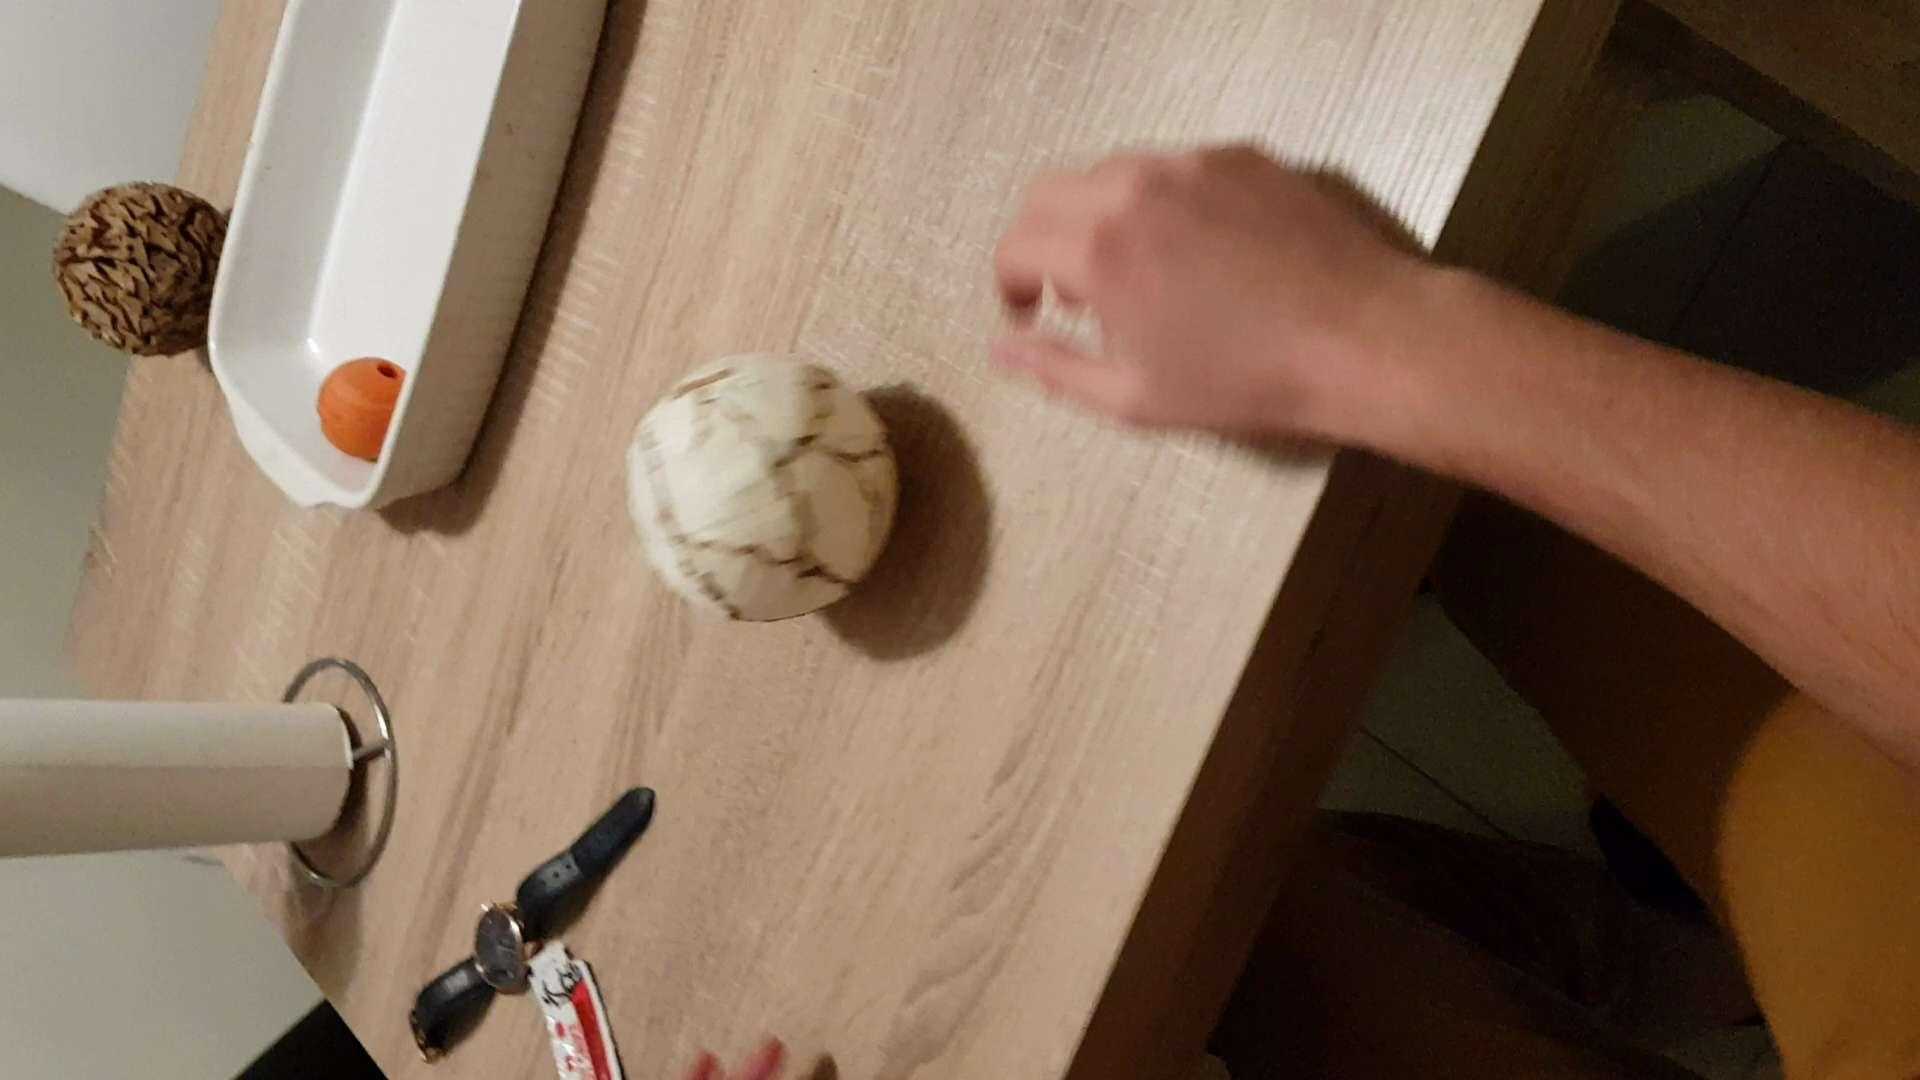Sphere: (309, 359, 418, 456)
sphere: (616, 345, 905, 634), (51, 179, 210, 349)
